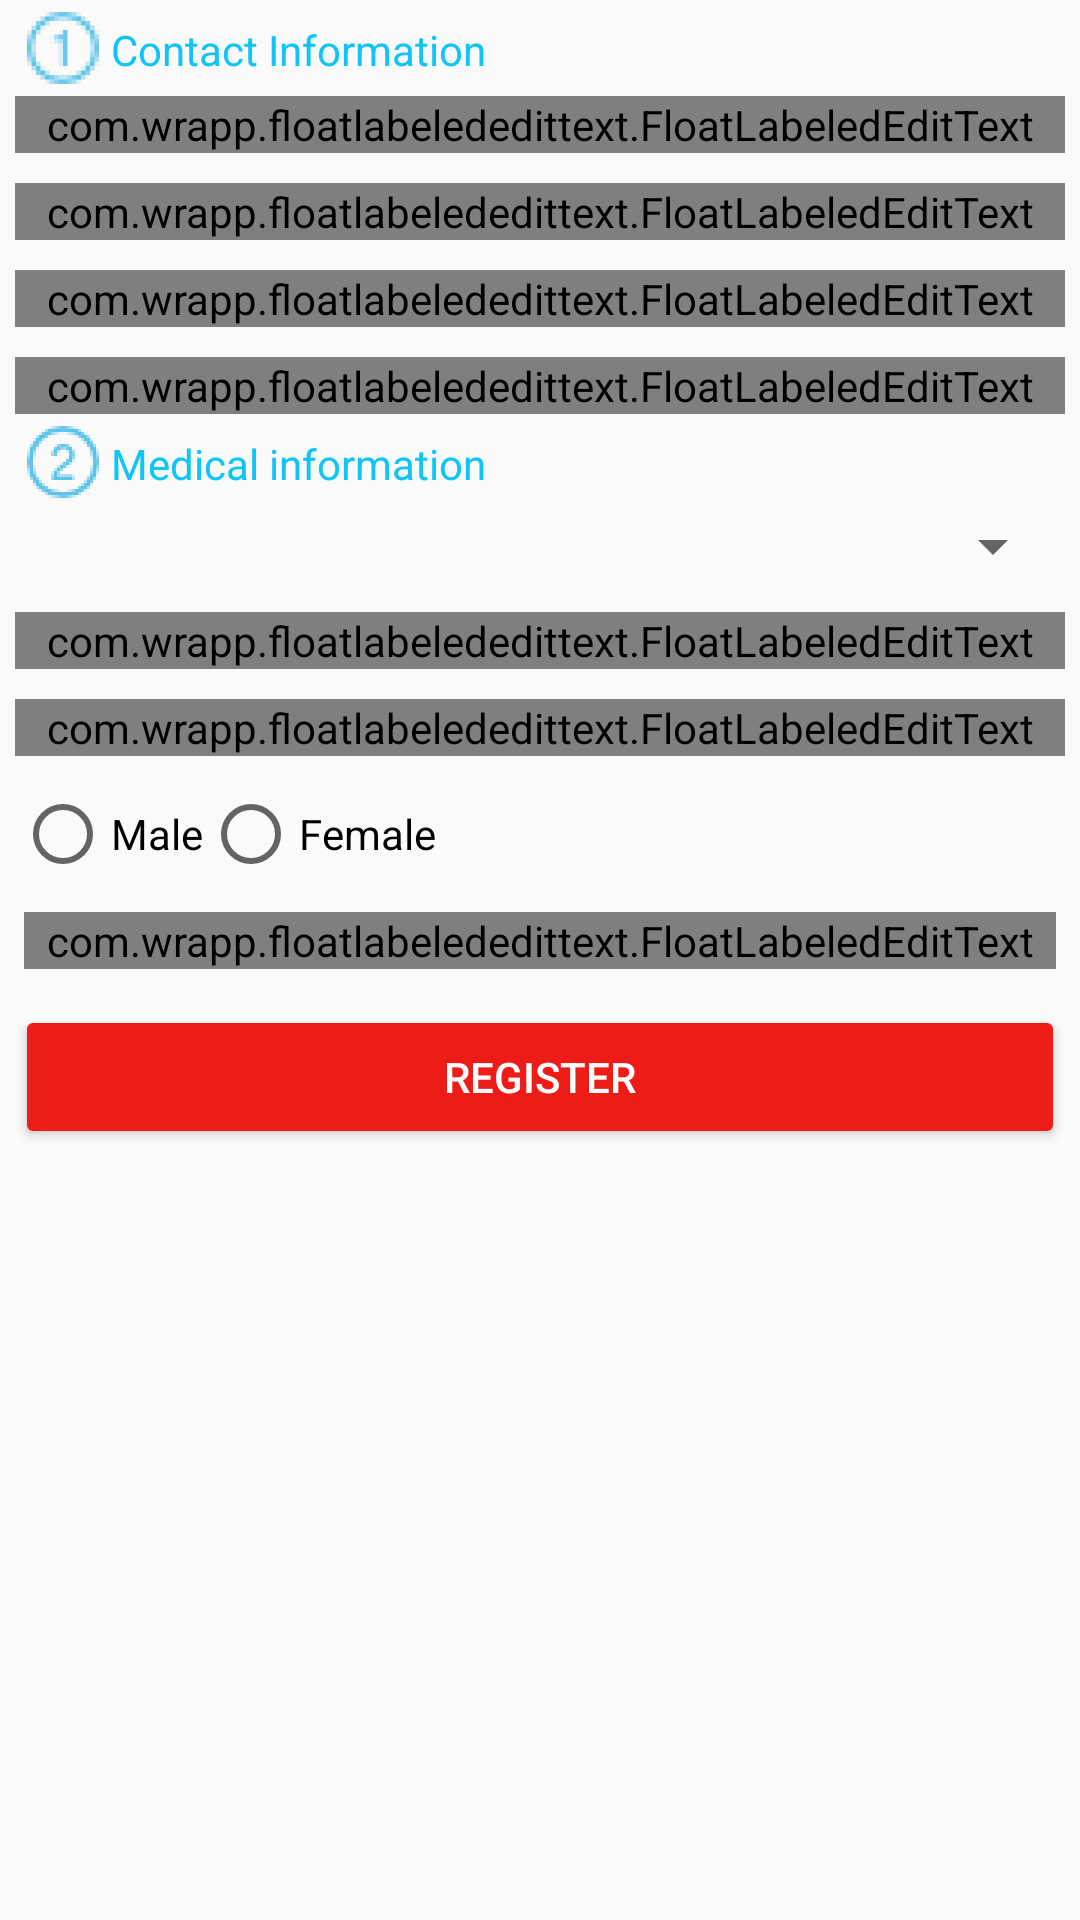

Where icons sit on this 1080*1920 app screen, as bbox=(x1, y1, x2, y2):
number one: bbox=(27, 12, 99, 84)
number two: bbox=(27, 426, 99, 498)
